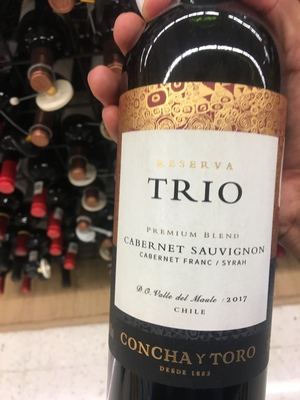trio cabernet sauvignon: (106, 8, 290, 397)
